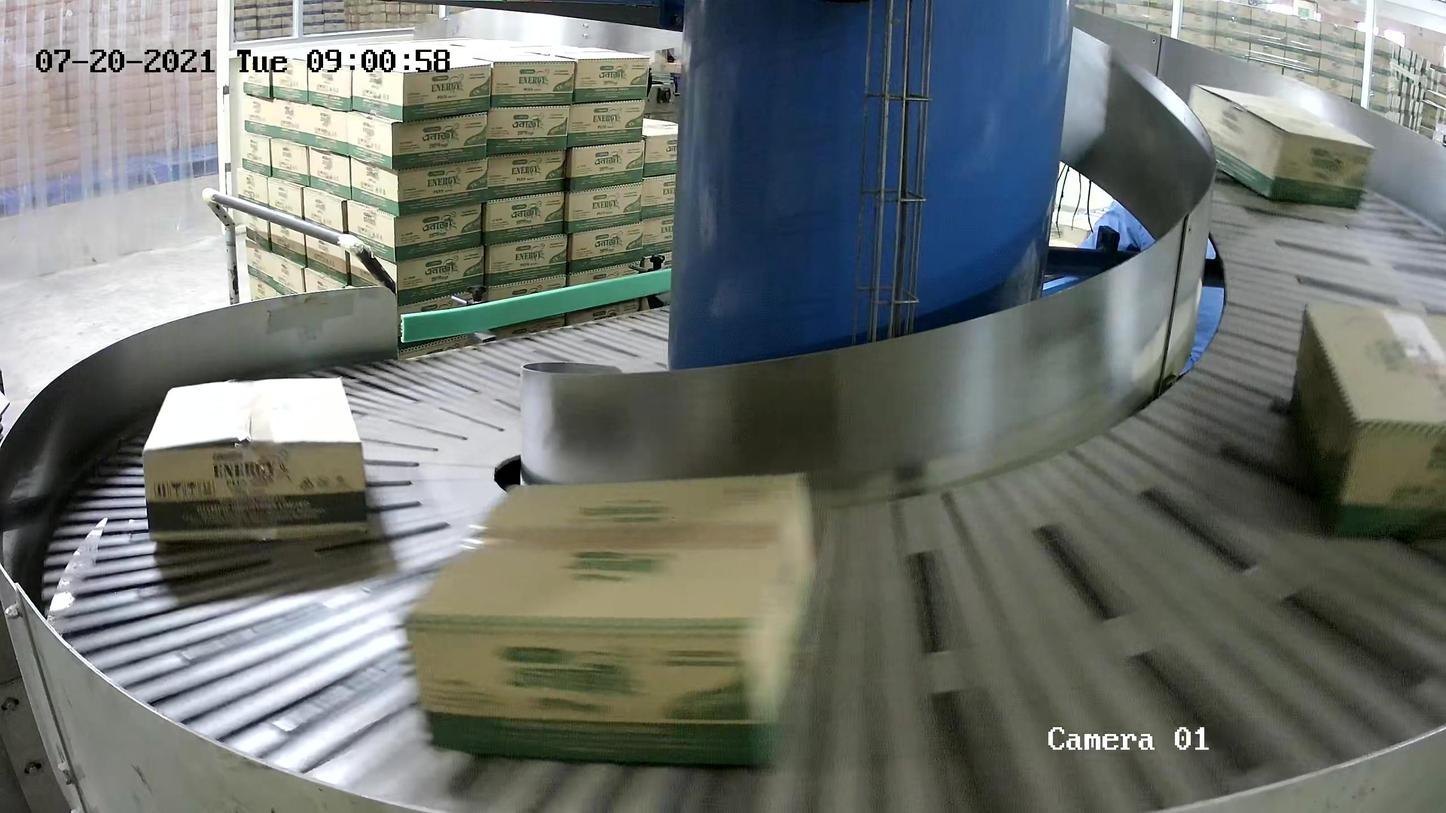Box: (401, 469, 816, 771), (1289, 297, 1446, 541), (141, 376, 368, 542), (1187, 83, 1376, 209)
